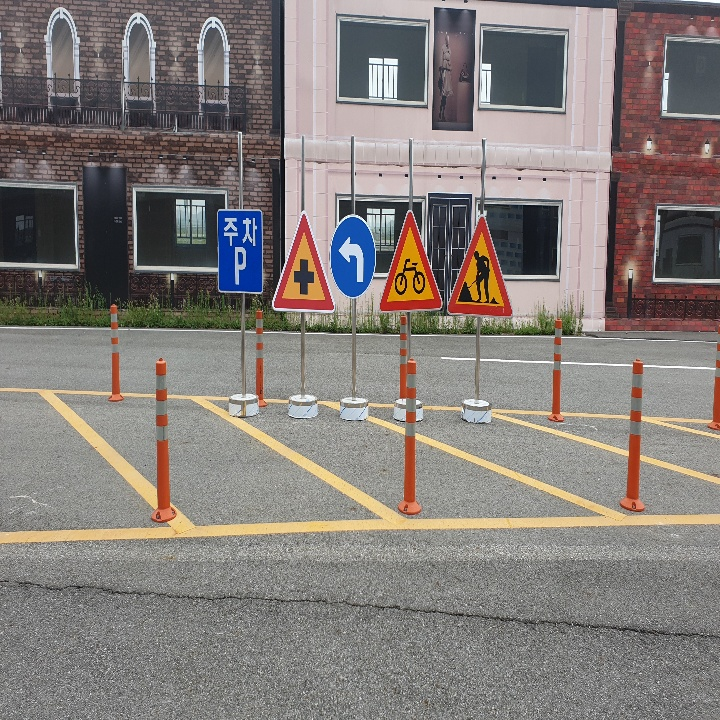bicycle: (381, 211, 443, 308)
const: (459, 248, 502, 305)
inter: (291, 253, 317, 303)
left: (334, 231, 371, 286)
parking: (226, 241, 253, 289)
